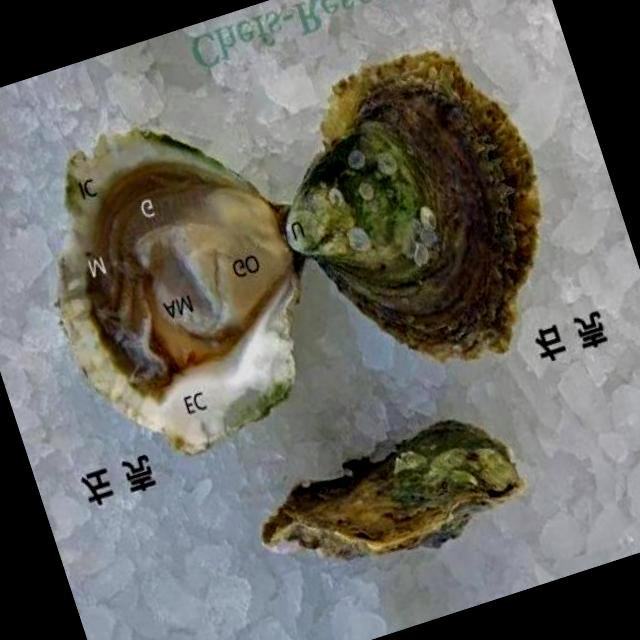Oyster-Closed: (284, 51, 542, 361), (261, 418, 523, 560)
Oyster-Open: (50, 128, 308, 454)
